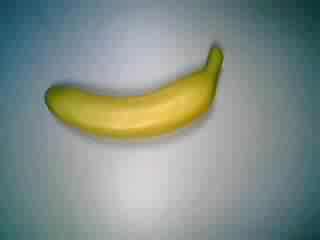banana: (39, 44, 229, 141)
